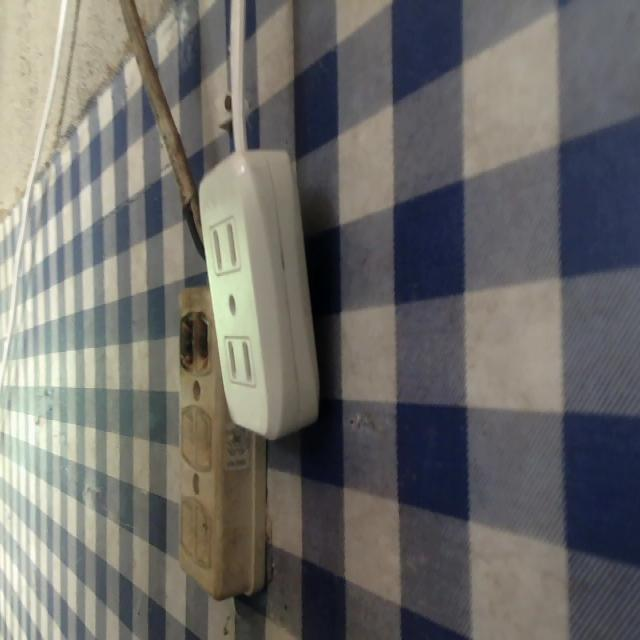-: (175, 303, 215, 373)
